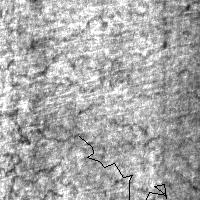crazing: (1, 9, 165, 125), (4, 119, 173, 200), (79, 136, 166, 200)
